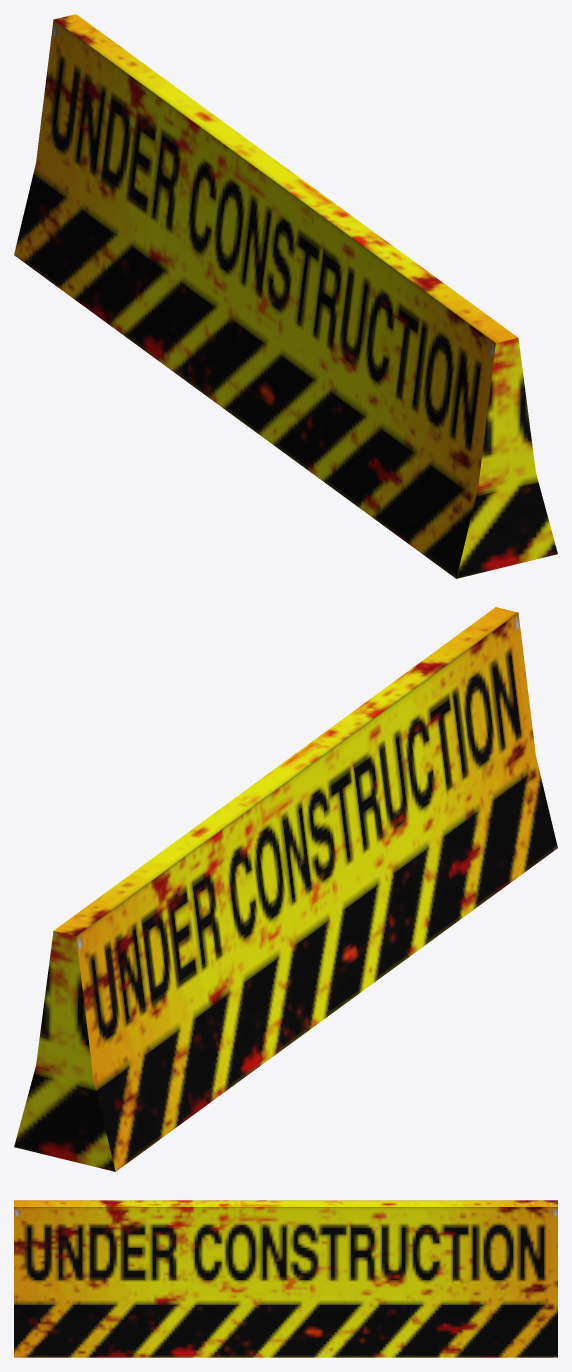
File: road barrier3.FBX
3 views of the same model, one above another, from view 1: azimuth 30°, elevation 25°; view 2: azimuth 150°, elevation 25°; view 3: azimuth 270°, elevation 25° (orthographic). The views are drawn at different scales.
Visible parts, largest first — view 1: Box001; view 2: Box001; view 3: Box001.
Part boxes in pixels (x1=…): Box001: x1=14, y1=14, x2=557, y2=578; Box001: x1=14, y1=607, x2=557, y2=1171; Box001: x1=14, y1=1200, x2=557, y2=1357.
Size of the model in its own units: 2.33 by 4.96 by 17.59.
